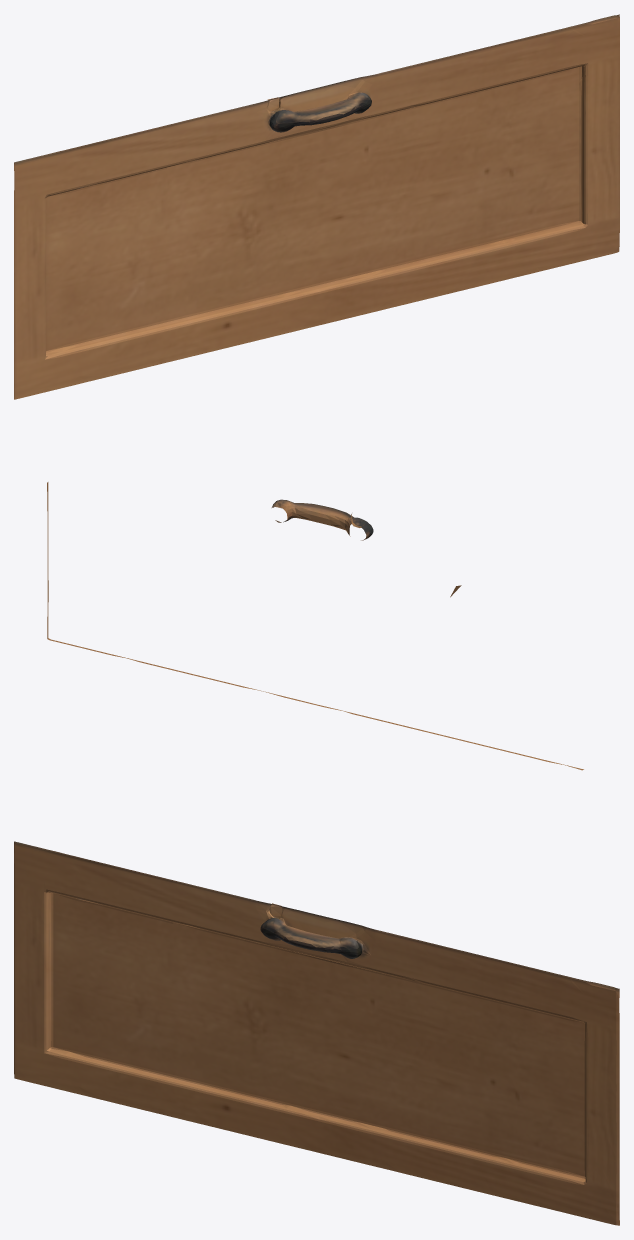
The model's file is door_lower.glb.
3 views of the same model, one above another, from view 1: azimuth 30°, elevation 25°; view 2: azimuth 150°, elevation 25°; view 3: azimuth 330°, elevation 25° (orthographic).
Visible parts, largest first — view 1: source_surface_0; view 2: source_surface_0; view 3: source_surface_0.
Boxes of the visible parts, <box> form: source_surface_0: <box>14,14,619,399</box>; source_surface_0: <box>47,482,583,770</box>; source_surface_0: <box>14,841,619,1225</box>.
Size of the model in its own units: 0.8075 by 0.3021 by 0.0403.
1 material, 1 textured.
